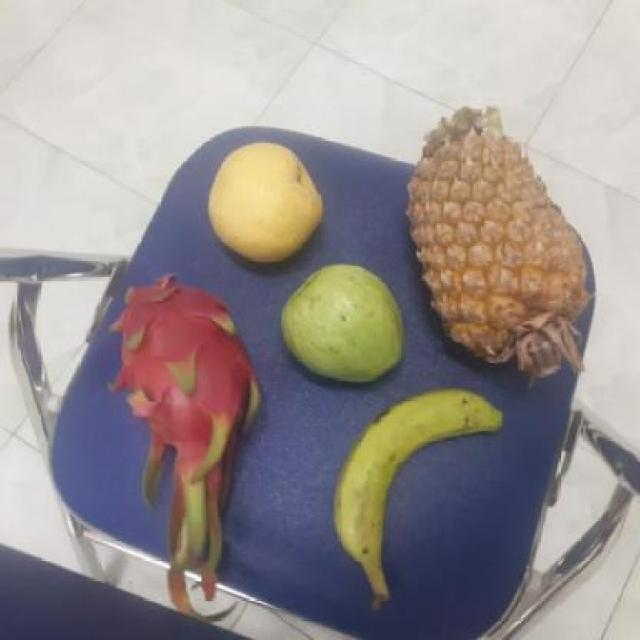banana: (328, 388, 500, 568)
dragon fruit: (103, 276, 255, 476)
guava: (274, 266, 401, 380)
pear: (202, 144, 327, 264)
pineapple: (406, 122, 586, 376)
